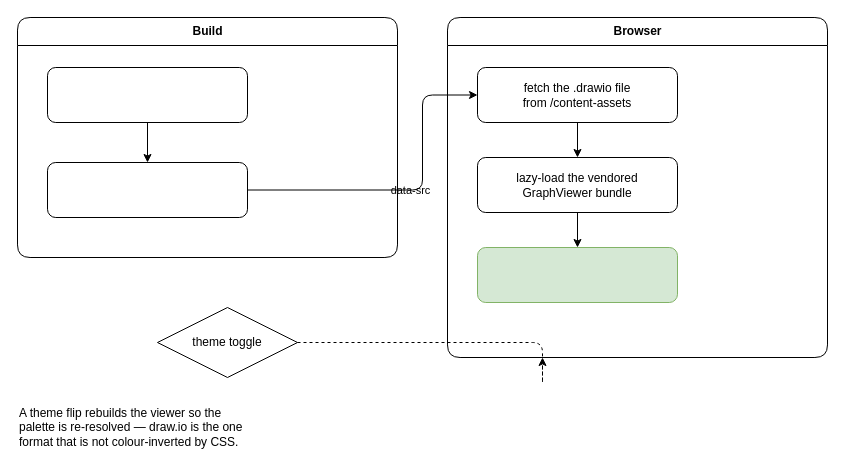
Image size: 845x475. Some labels were removed from this diagram. Here are the shapes that lost their labels. From the top down, the centre of each, then its label:
At (147,94): "loadDiagramPages() scans for NN_*.drawio".
At (147,190): "emits a .diagram-drawio placeholder with data-src".
At (577,274): "render SVG in the theme the site is currently in".
